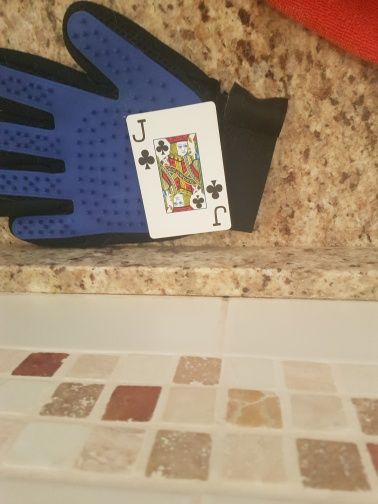jack: (126, 101, 231, 239)
